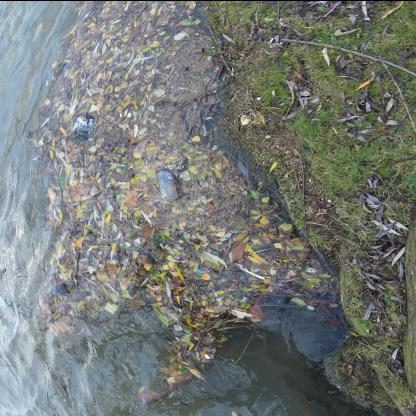plastik: (158, 168, 178, 200)
